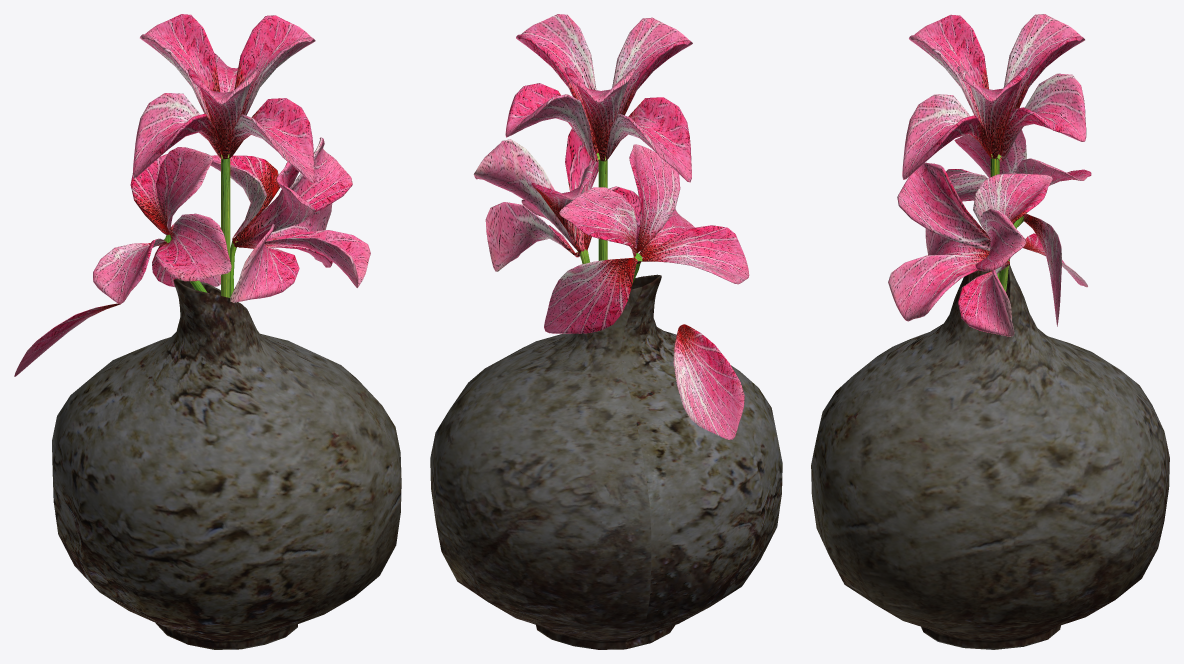
The model's file is vase_and_flowers.glb.
3 renders of one model, left to right at view 1: azimuth 30°, elevation 25°; view 2: azimuth 150°, elevation 25°; view 3: azimuth 270°, elevation 25°, orthographic.
Visible parts, largest first — view 1: Vase, TallFlower_2, TallFlower_1, FlowerBase_PartialHead, FallingPetal; view 2: Vase, TallFlower_2, FlowerBase_PartialHead, TallFlower_1, FallingPetal; view 3: Vase, TallFlower_2, TallFlower_1, FlowerBase_PartialHead.
Part boxes in pixels (bbox=[...]): Vase: bbox=[52, 278, 401, 649]; TallFlower_2: bbox=[133, 14, 315, 297]; TallFlower_1: bbox=[210, 137, 370, 302]; FlowerBase_PartialHead: bbox=[93, 147, 231, 303]; FallingPetal: bbox=[14, 303, 120, 376]; Vase: bbox=[430, 274, 782, 649]; TallFlower_2: bbox=[505, 14, 692, 260]; FlowerBase_PartialHead: bbox=[544, 144, 749, 333]; TallFlower_1: bbox=[473, 128, 640, 271]; FallingPetal: bbox=[673, 324, 744, 439]; Vase: bbox=[811, 265, 1169, 649]; TallFlower_2: bbox=[902, 14, 1086, 279]; TallFlower_1: bbox=[888, 162, 1052, 336]; FlowerBase_PartialHead: bbox=[946, 130, 1091, 326].
Bounding box in the file's own units: 19.08 × 32.8 × 18.36.
Materials: 5 (5 with a texture image).
